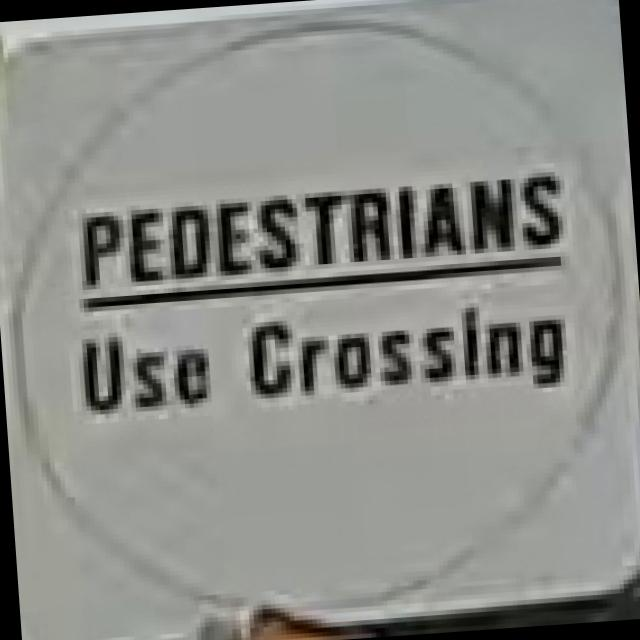pedestriancrossing_sign: (0, 0, 640, 640), (71, 166, 574, 294), (71, 292, 574, 420)
